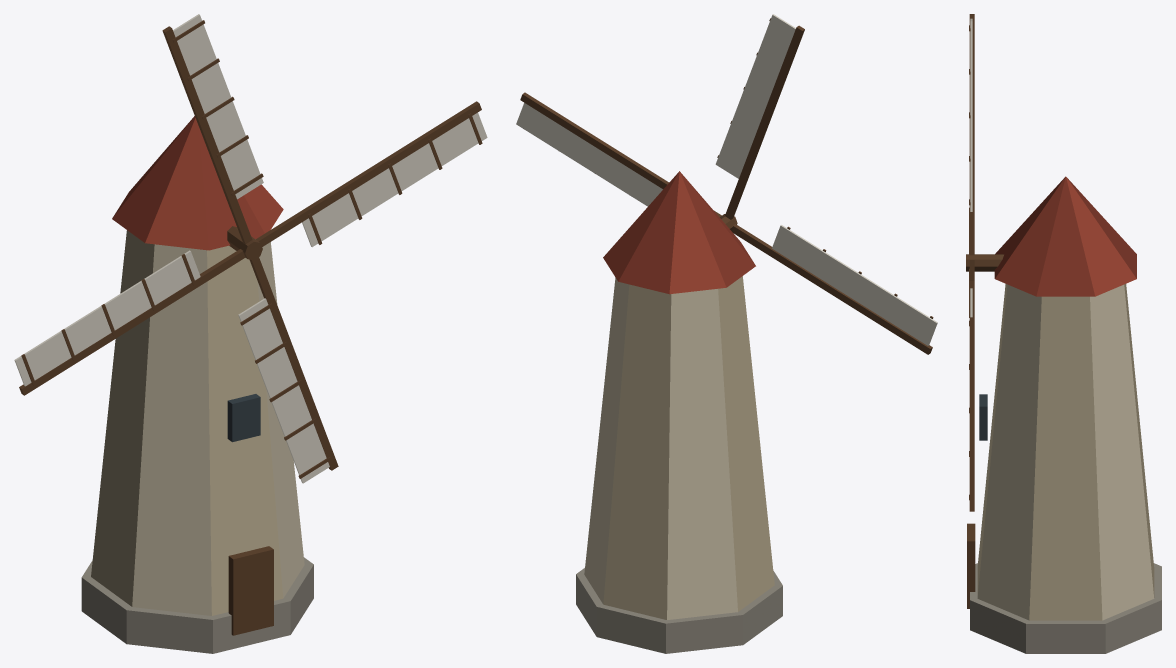
File: sn_windmill.glb
3 views of the same model, side by side, from view 1: azimuth 30°, elevation 25°; view 2: azimuth 150°, elevation 25°; view 3: azimuth 270°, elevation 25° (orthographic). The views are drawn at different scales.
Parts seen in each view (by area): view 1: sn_windmill; view 2: sn_windmill; view 3: sn_windmill.
Part boxes in pixels (x1,y1,x2,y2): sn_windmill: [14, 14, 487, 653]; sn_windmill: [516, 14, 937, 653]; sn_windmill: [966, 14, 1161, 653].
Bounding box in the file's own units: 11.63 × 15.12 × 4.71.
